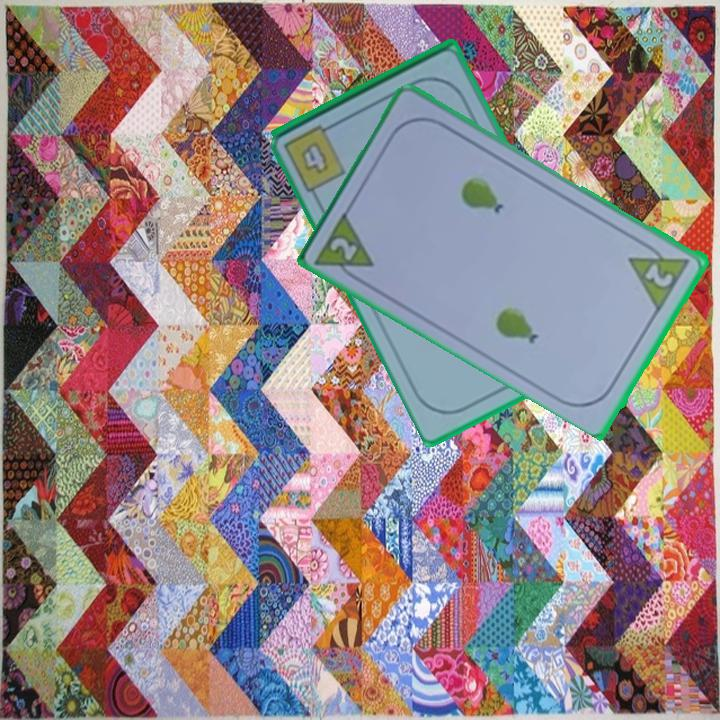2p: (312, 206, 379, 288), (625, 236, 694, 312)
4b: (280, 117, 349, 195)
